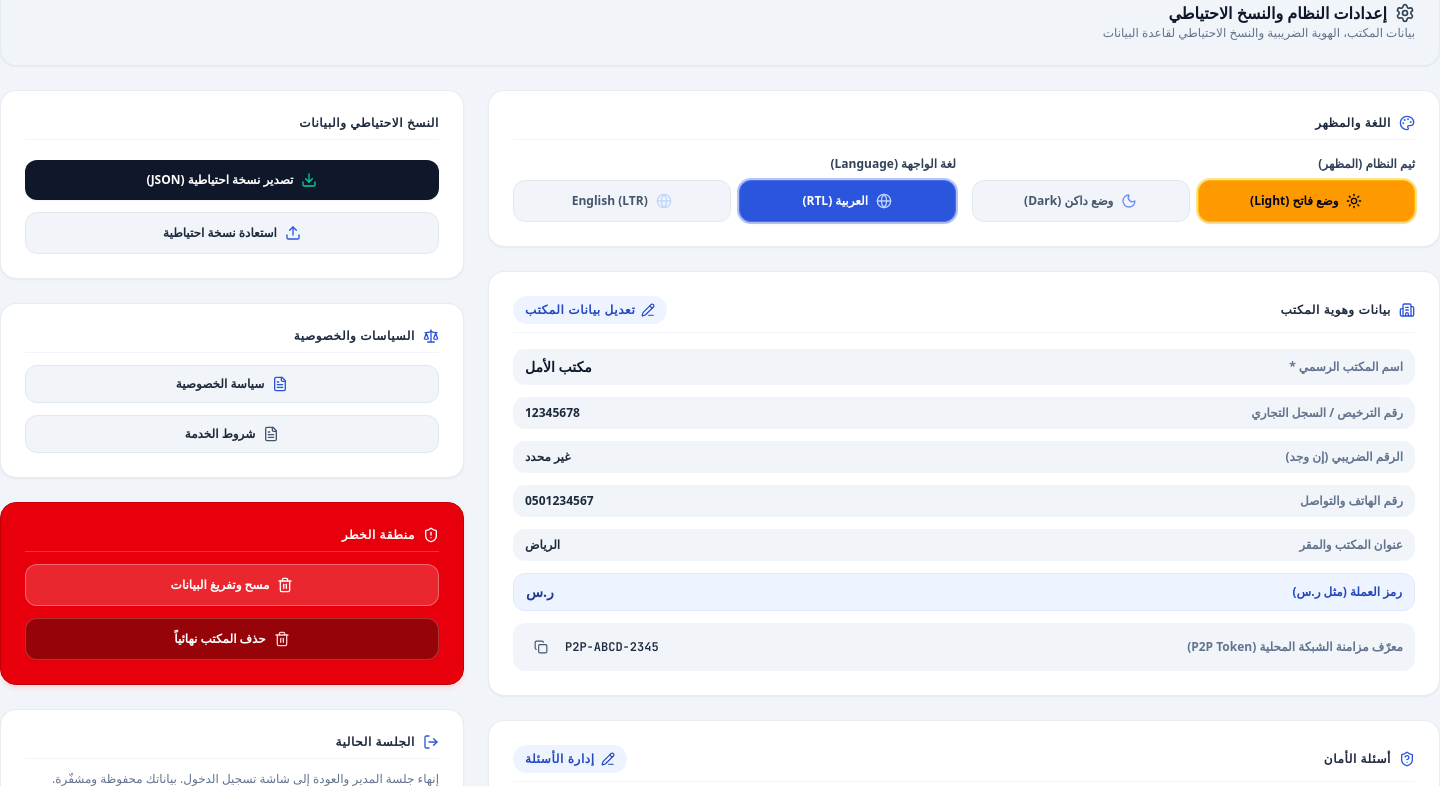
Test case: SettingsManager › shows the office identity form only after clicking the edit button
The image size is (1440, 786).
Check: the button "حفظ الإعدادات" is not shown
Click the button "تعديل بيانات المكتب": (590, 310) [513, 296, 667, 324]
(page scrolled)
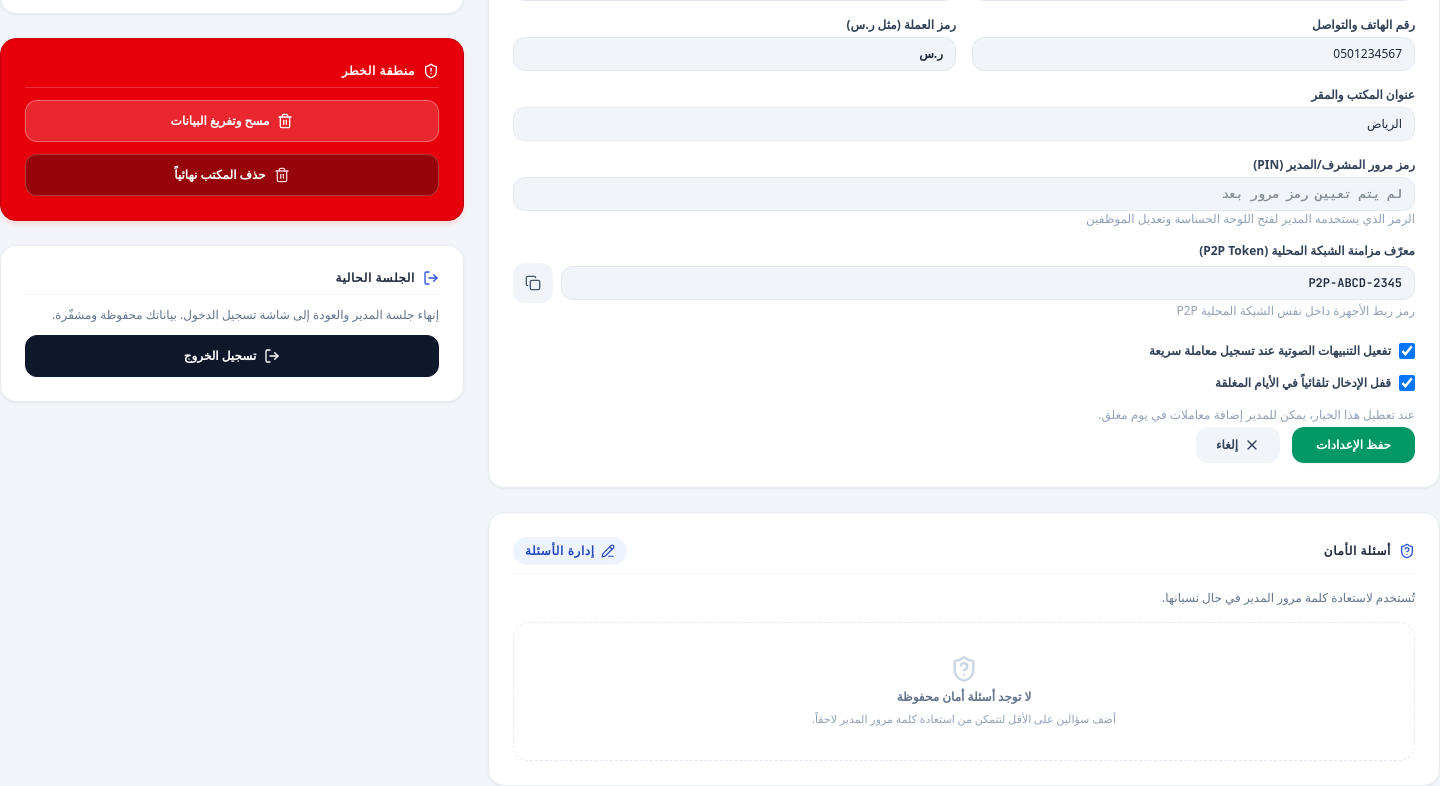
Check: the button "حفظ الإعدادات" is shown, box [1292, 427, 1415, 463]
